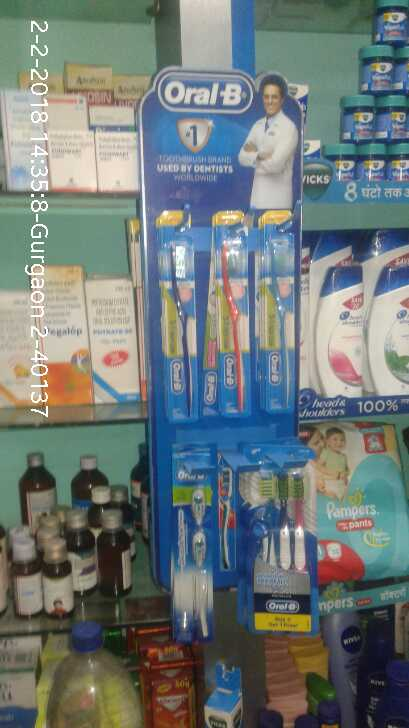beauty: (310, 262, 373, 401), (373, 258, 409, 403)
pharmacy: (306, 422, 409, 589), (319, 6, 409, 186), (252, 461, 308, 629), (152, 241, 202, 419), (177, 460, 216, 649), (212, 227, 250, 414), (262, 227, 298, 411)
